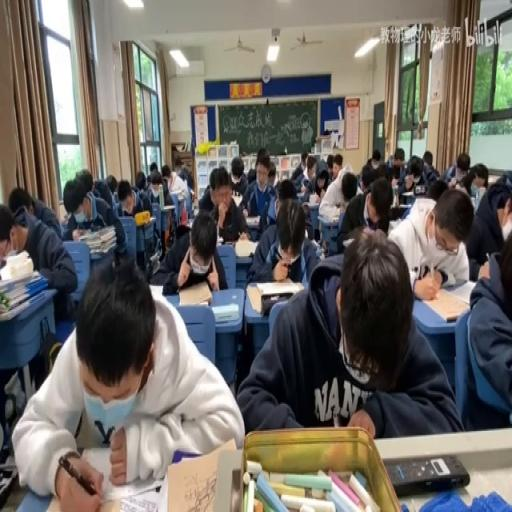calculator: (165, 439, 238, 512), (420, 286, 470, 321), (178, 279, 212, 304), (256, 279, 302, 294), (212, 302, 238, 324), (234, 236, 258, 258), (244, 284, 262, 312), (318, 204, 341, 224), (147, 282, 166, 298), (135, 213, 157, 226), (474, 185, 486, 205), (149, 248, 159, 268), (309, 238, 322, 252), (245, 215, 260, 226), (230, 194, 242, 206), (342, 238, 354, 248), (486, 175, 500, 183), (299, 183, 308, 195), (396, 202, 410, 209), (307, 198, 319, 206), (214, 233, 222, 245), (470, 193, 476, 209), (160, 204, 174, 210), (402, 191, 414, 196), (188, 219, 194, 228), (189, 188, 194, 196)
paper: (14, 255, 241, 506), (236, 230, 458, 440), (1, 192, 77, 326), (388, 183, 470, 296), (244, 195, 316, 284), (64, 172, 128, 267), (157, 209, 226, 296), (464, 174, 510, 272), (336, 179, 374, 253), (146, 165, 175, 223), (400, 152, 430, 198), (300, 161, 326, 202), (443, 150, 472, 186), (226, 154, 248, 198), (178, 165, 194, 212), (384, 148, 406, 182), (424, 176, 450, 200), (116, 178, 134, 212), (74, 168, 92, 196), (276, 179, 295, 201), (359, 164, 375, 189), (472, 164, 488, 188), (266, 160, 278, 190), (134, 170, 148, 194), (255, 146, 268, 168), (389, 205, 404, 223), (106, 172, 118, 194), (374, 164, 388, 180), (161, 166, 171, 184), (245, 166, 255, 184), (422, 149, 431, 165), (148, 161, 158, 175), (341, 160, 351, 174), (326, 154, 332, 175), (372, 150, 381, 164), (301, 154, 307, 169), (90, 180, 96, 194)
person: (384, 454, 470, 496), (0, 462, 18, 509), (260, 292, 294, 314), (221, 238, 237, 248), (412, 182, 426, 193), (320, 238, 327, 253), (446, 313, 458, 321)
